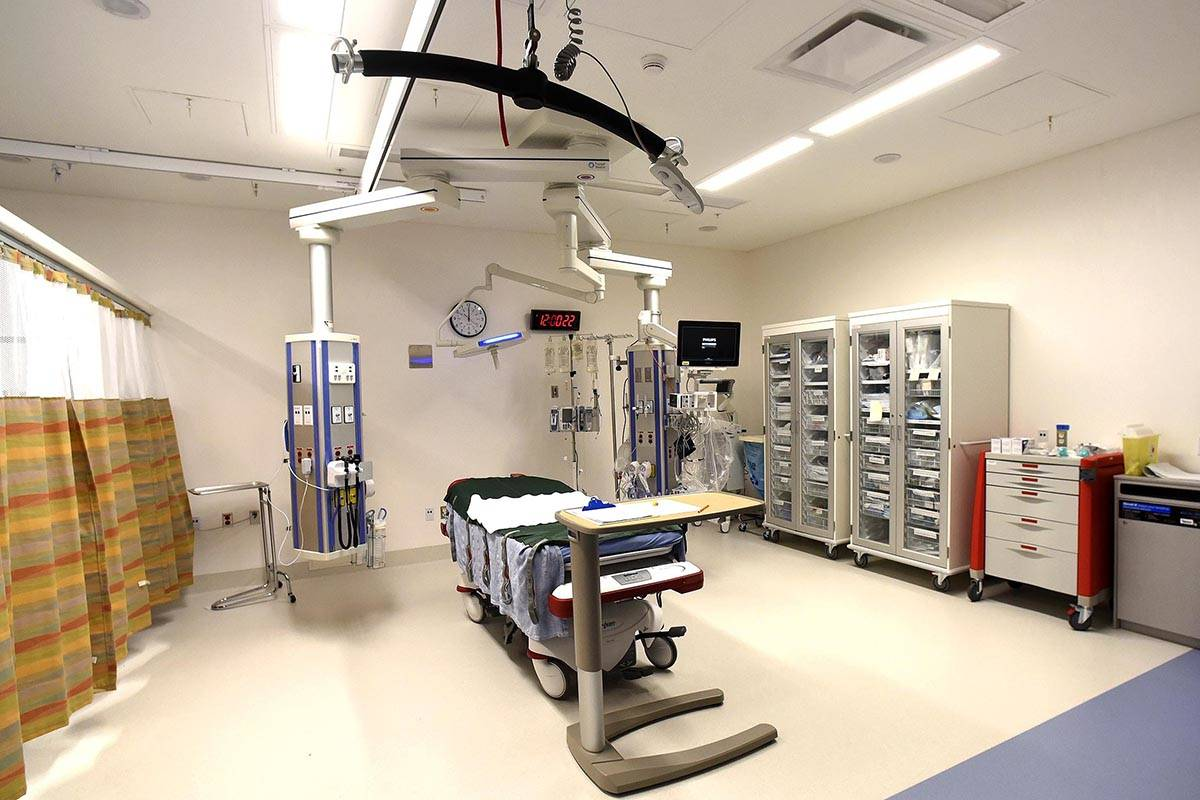bedside_monitor: (679, 322, 740, 365)
cabinet: (850, 307, 1011, 581), (753, 326, 848, 555)
curtain: (1, 234, 194, 800)
hospital_bed: (438, 469, 710, 707)
infusion_pump: (547, 402, 604, 438)
iv_pole: (579, 328, 644, 468), (537, 328, 607, 403)
medical_drawer: (979, 443, 1127, 616)
overbed_table: (548, 496, 783, 800)
surgical_light: (438, 328, 541, 370)
utility_cart: (188, 479, 301, 614)
